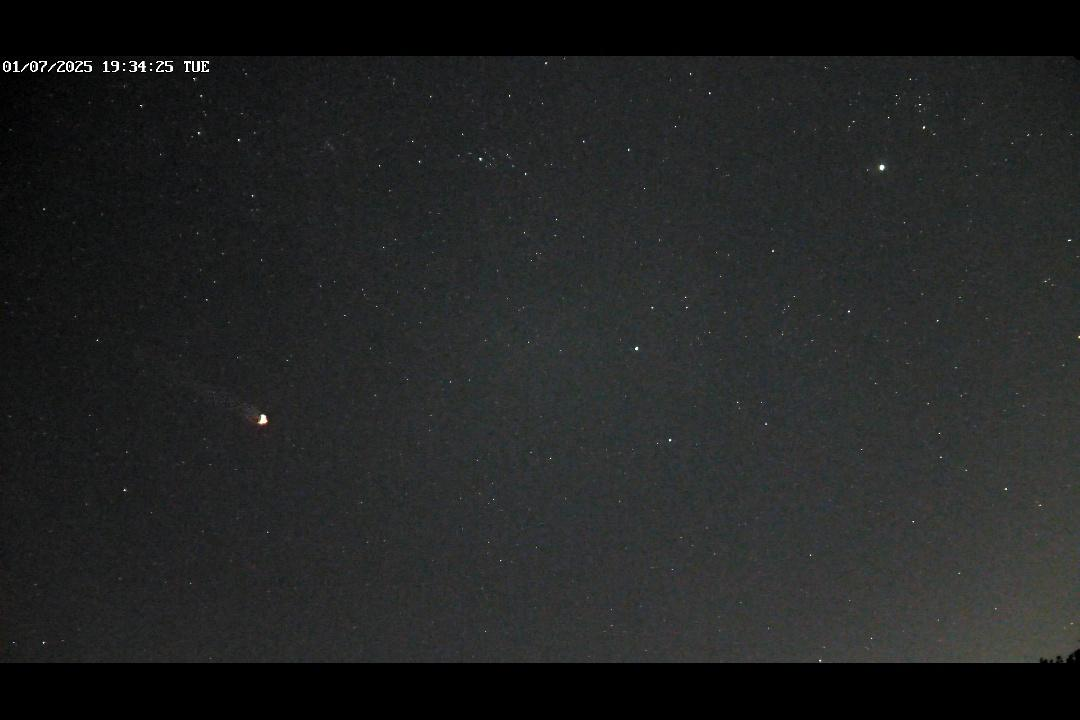Plane: (205, 384, 274, 434)
